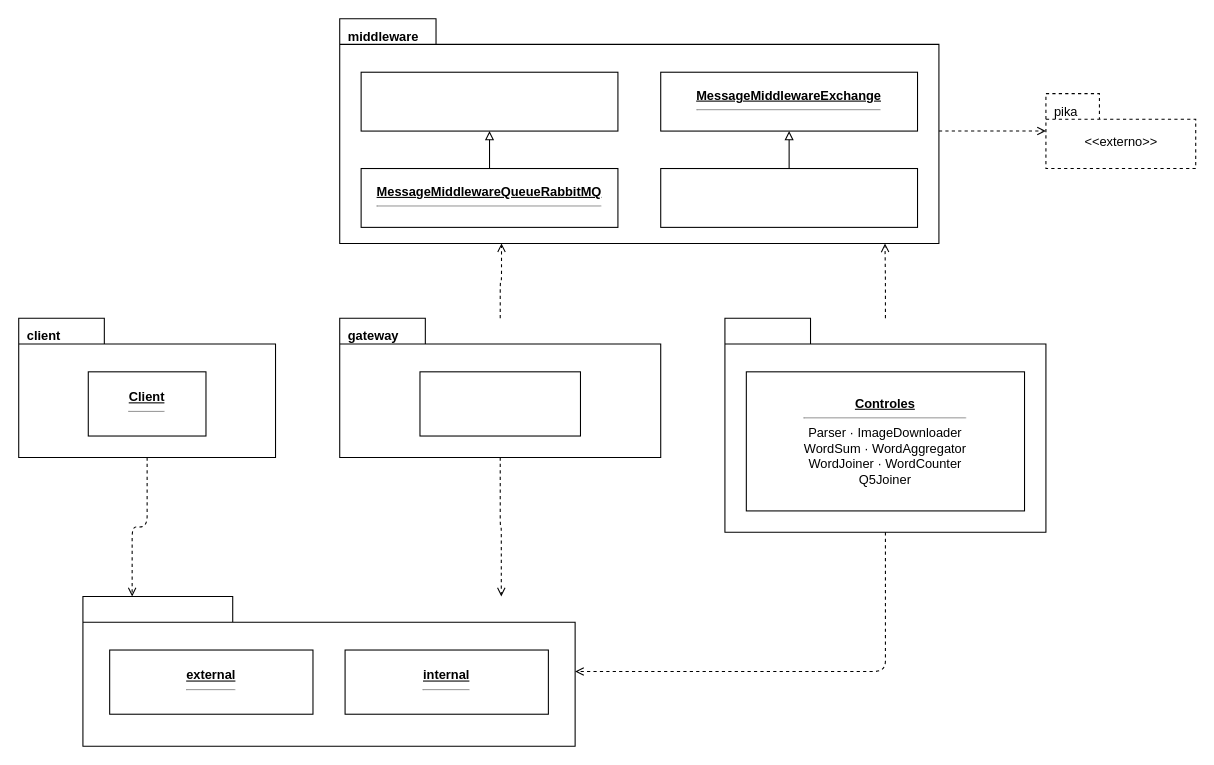
Some shapes in this 1214 by 765 pixel diagram are drawn without their labels. Each missing label, with the box of its shape:
controls: (724, 317, 1046, 532)
message_protocol: (82, 595, 575, 746)
MessageHandler: (419, 371, 580, 436)
MessageMiddlewareExchangeRabbitMQ: (660, 167, 918, 227)
MessageMiddlewareQueue: (360, 71, 618, 131)
